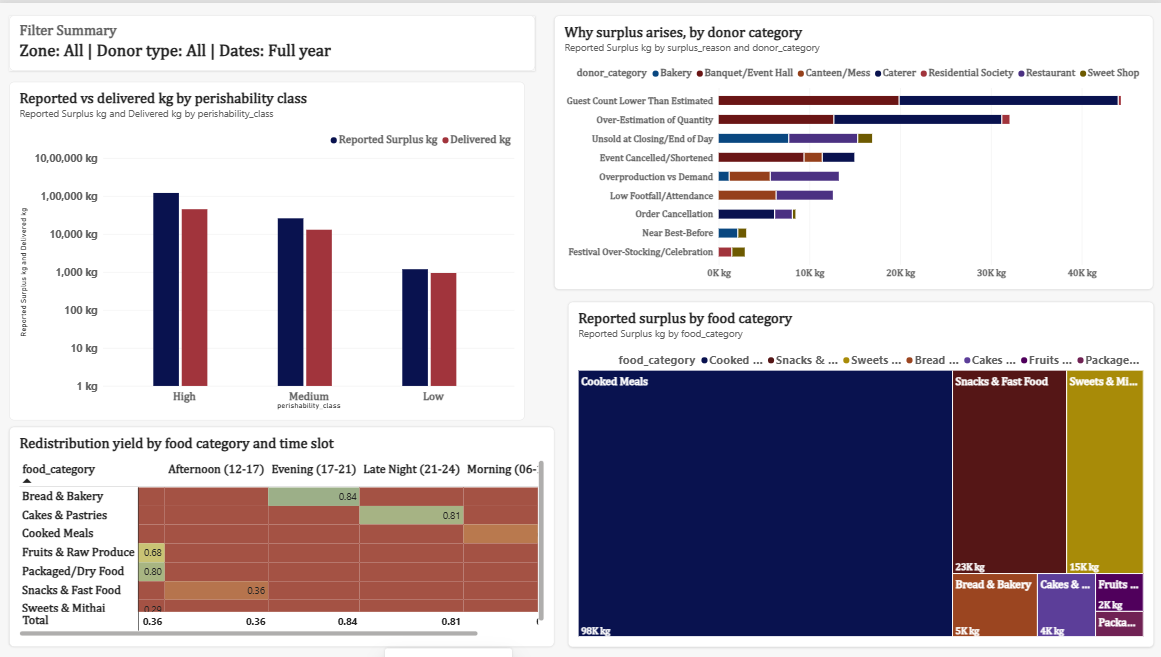

This screenshot's page, from the dashboard's own definition file:
{"tool":"powerbi","page":{"name":"Food & Reasons","canvas":[1920,1080],"ordinal":2},"visuals":[{"type":"cardVisual","fields":{"Data":["_Measures.Filter Summary"]},"box":[17.8,20,866.7,91.1],"z":3000},{"type":"treemap","title":"Reported surplus by food category","fields":{"Group":["dim_food_category.food_category"],"Values":["_Measures.Reported Surplus kg"]},"box":[937.8,491.1,964.4,568.9],"z":4000},{"type":"barChart","title":"Why surplus arises, by donor category","fields":{"Category":["fact_surplus.surplus_reason"],"Series":["dim_donor.donor_category"],"Y":["_Measures.Reported Surplus kg"]},"box":[915.6,20,986.7,451.1],"z":5000},{"type":"pivotTable","title":"Redistribution yield by food category and time slot","fields":{"Columns":["dim_time_slot.time_slot"],"Rows":["dim_food_category.food_category"],"Values":["_Measures.Redistribution Yield %"]},"box":[17.8,697.8,897.8,362.2],"z":6000},{"type":"clusteredColumnChart","title":"Reported vs delivered kg by perishability class","fields":{"Category":["dim_food_category.perishability_class"],"Y":["_Measures.Reported Surplus kg","_Measures.Delivered kg"]},"box":[17.8,128.9,848.9,557.8],"z":7000}]}

Visuals, with their boxes in screenshot pixels (x1, y1, x2, y2), scaled from the page's 1920x1080 canvas onto the 1161x657 screenshot:
cardVisual - _Measures.Filter Summary: [11,12,535,68]
"Reported surplus by food category" treemap: [567,299,1150,645]
"Why surplus arises, by donor category" barChart: [554,12,1150,287]
"Redistribution yield by food category and time slot" pivotTable: [11,424,554,645]
"Reported vs delivered kg by perishability class" clusteredColumnChart: [11,78,524,418]
